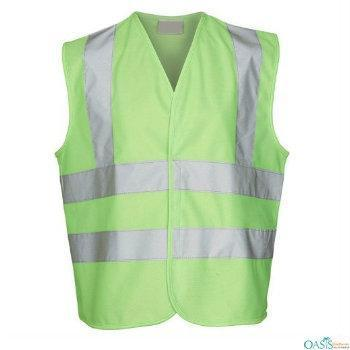vest: (53, 12, 289, 332)
